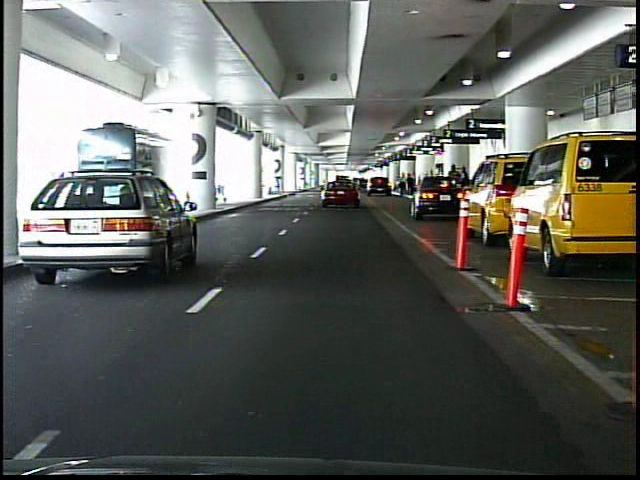person: (447, 163, 464, 209), (459, 166, 474, 208), (399, 172, 408, 196), (407, 173, 414, 196)
